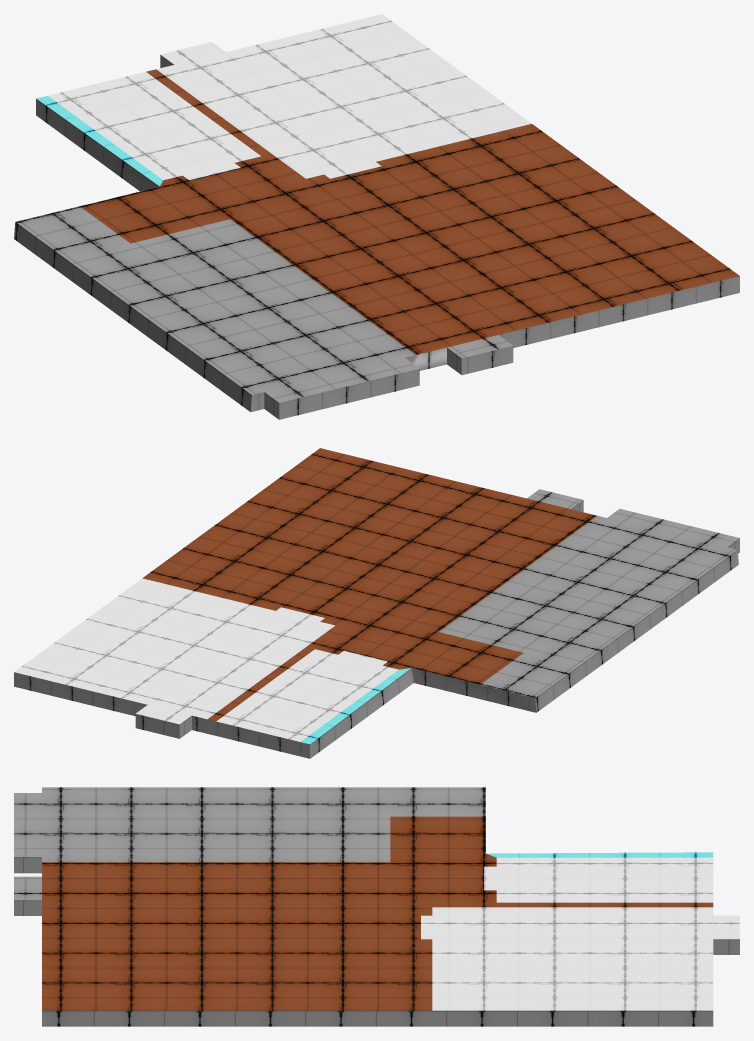
Rendered from Casa_INTERIOR_suelo_baja.fbx.
The picture shows the model from 3 angles, top to bottom: view 1: azimuth 30°, elevation 25°; view 2: azimuth 150°, elevation 25°; view 3: azimuth 270°, elevation 25°; orthographic projection. The views are drawn at different scales.
Visible parts, largest first — view 1: Casa_INTERIOR_suelo_baja; view 2: Casa_INTERIOR_suelo_baja; view 3: Casa_INTERIOR_suelo_baja.
Boxes of the visible parts, box(x1,y1,x2,y2) form: Casa_INTERIOR_suelo_baja: box(14, 14, 739, 419); Casa_INTERIOR_suelo_baja: box(14, 448, 739, 758); Casa_INTERIOR_suelo_baja: box(14, 787, 739, 1026).
Bounding box in the file's own units: 9.83 × 0.3243 × 13.46.
